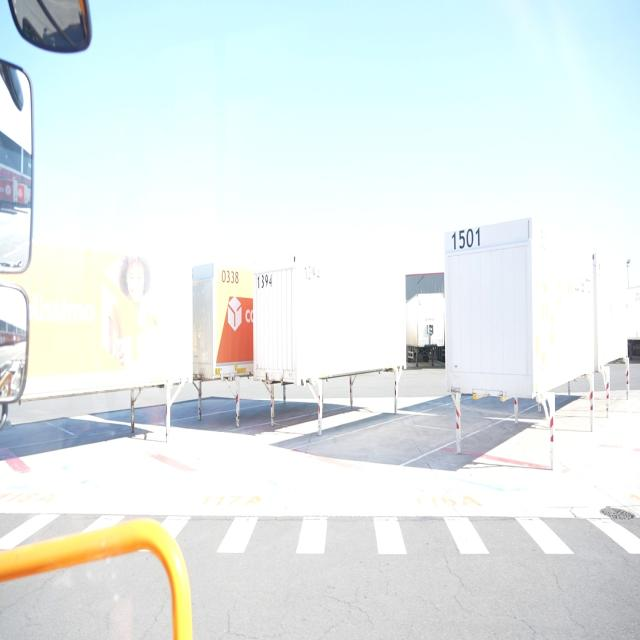Code: (449, 223, 483, 254), (217, 264, 241, 290), (252, 268, 276, 294)
